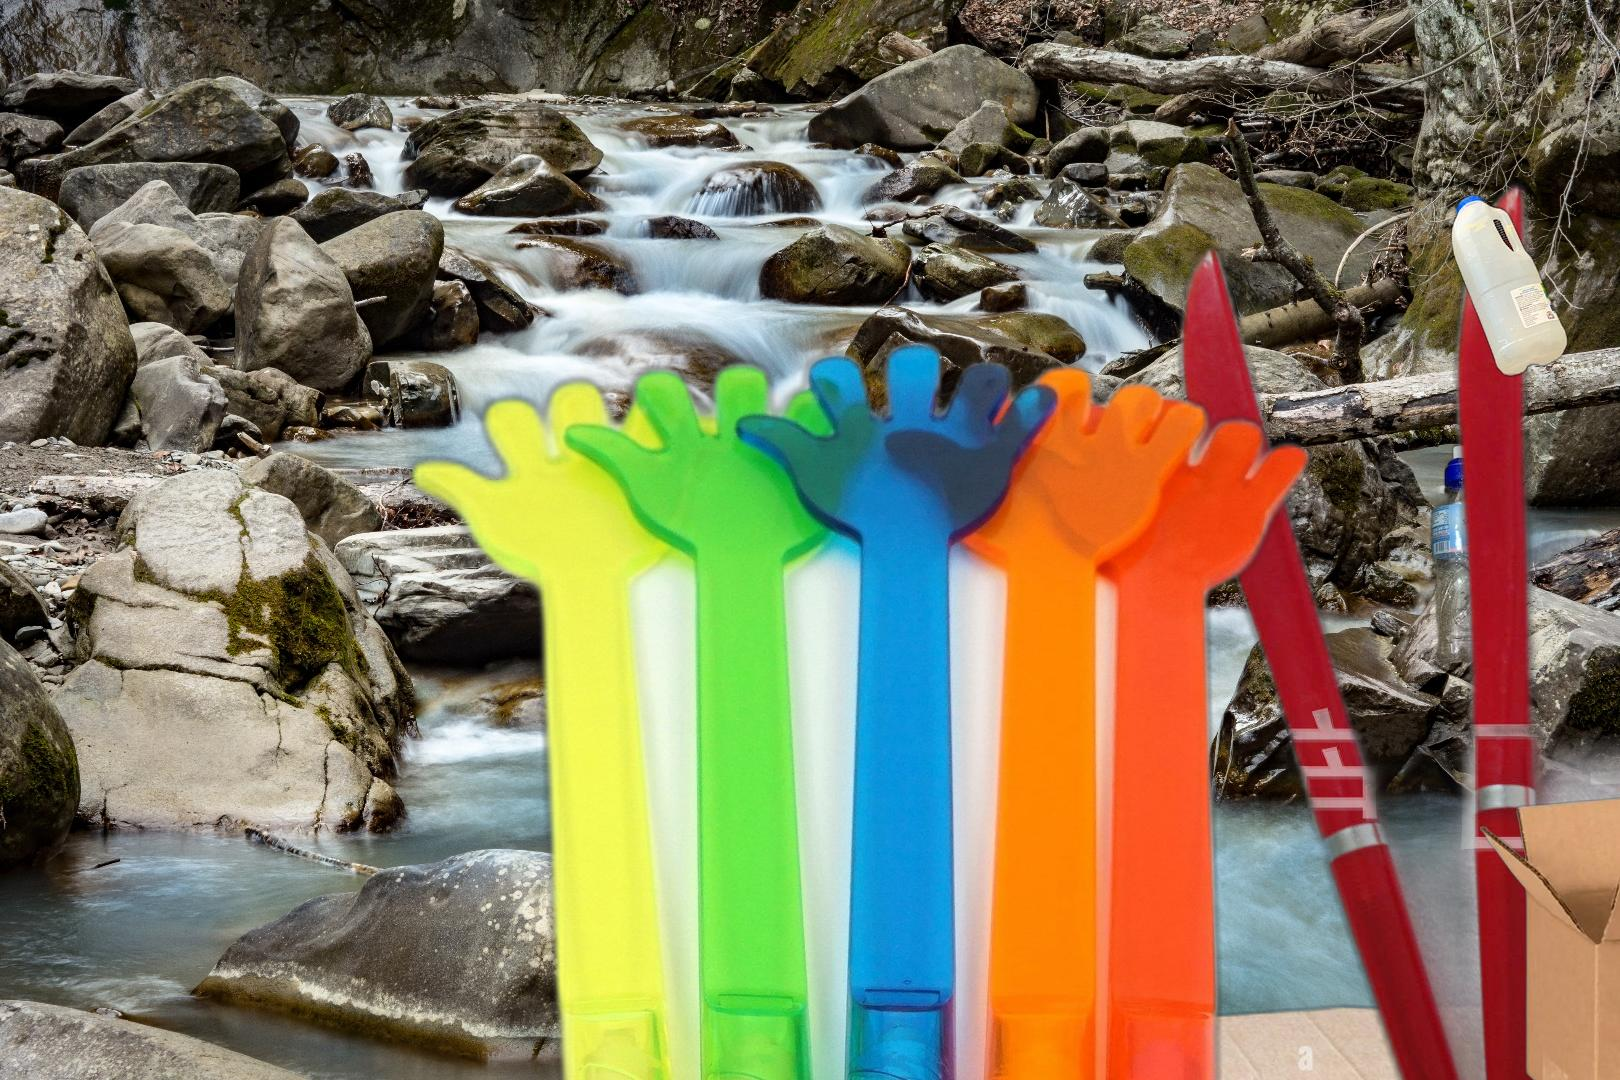paper: (31, 1075, 333, 1080)
penholder: (397, 325, 1326, 1080), (1161, 171, 1620, 1080)
plastic-bottles: (1261, 441, 1495, 881), (1446, 188, 1572, 383)
trash: (896, 729, 1091, 911)
trashbox-cardboard: (965, 994, 1620, 1080), (1475, 780, 1620, 1080)
